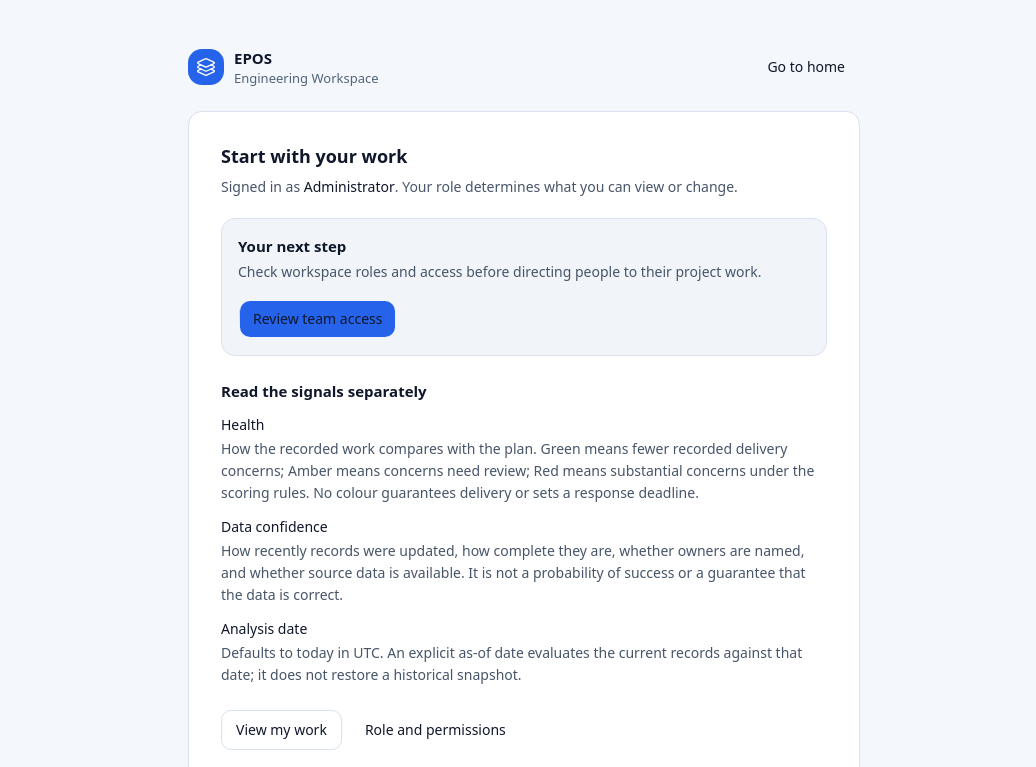
Test: OnboardingPage › provides a role-focused next step for administrator
Expected: the text "Administrator" is shown, [304,177,395,196]
Click the button named "Review team access" below "Your next step" at (318, 319), box [238,299,398,339]
(page scrolled)
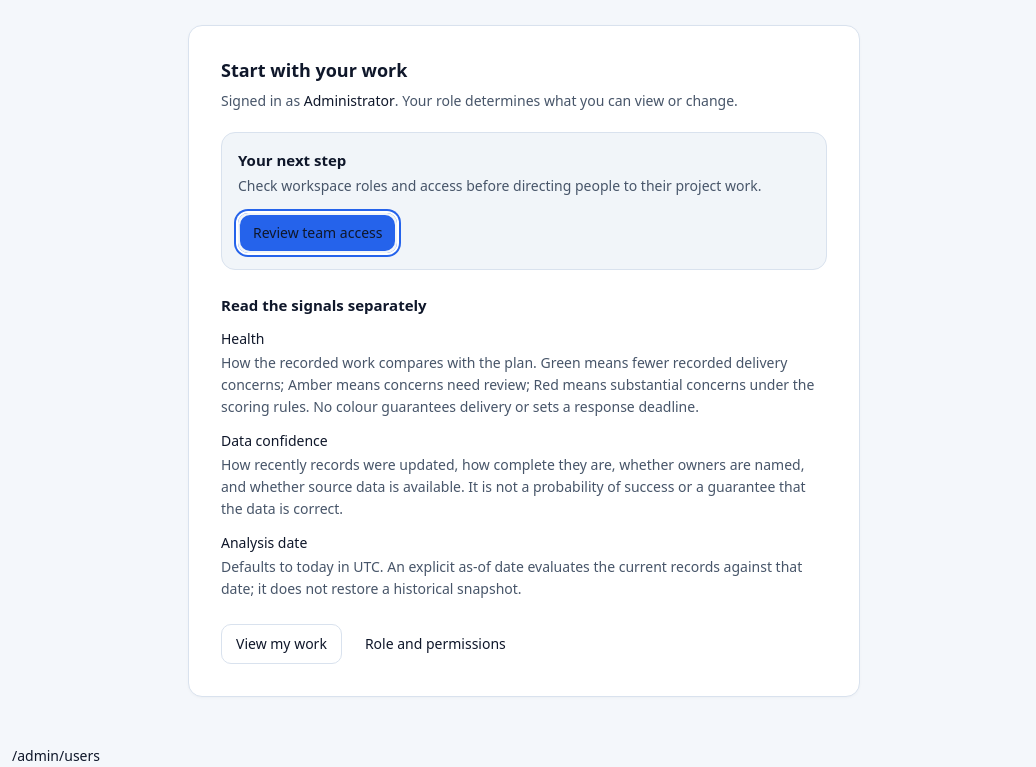
Result: the text named "Destination" reads "/admin/users" at [12,746,100,765]
